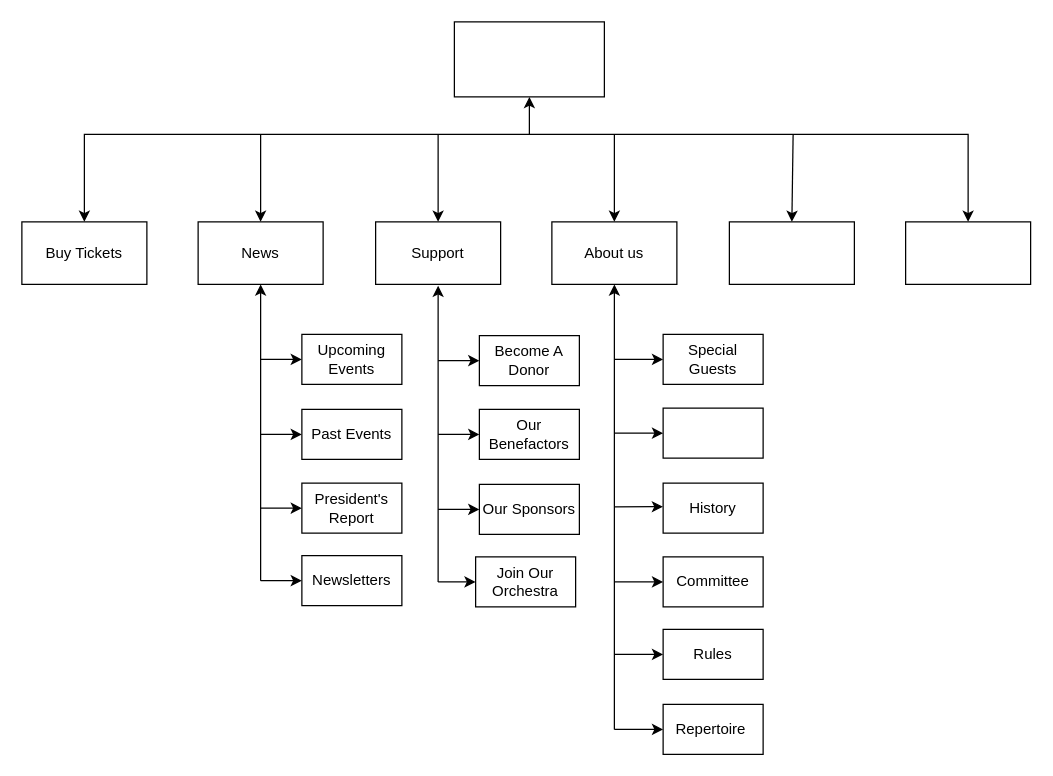
This 1053x776 diagram has some shape labels left out. Here are the shapes that lost their labels. From the top down, the centre of each, then its label:
At (528,59): "Home".
At (791,252): "Gallery".
At (967,252): "Contact".
At (712,432): "Life Members".
